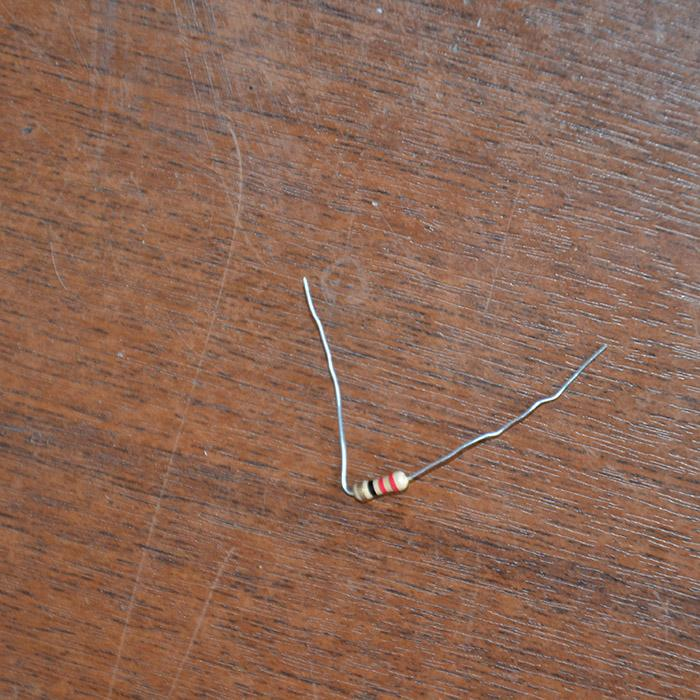resistor: (353, 470, 409, 502)
